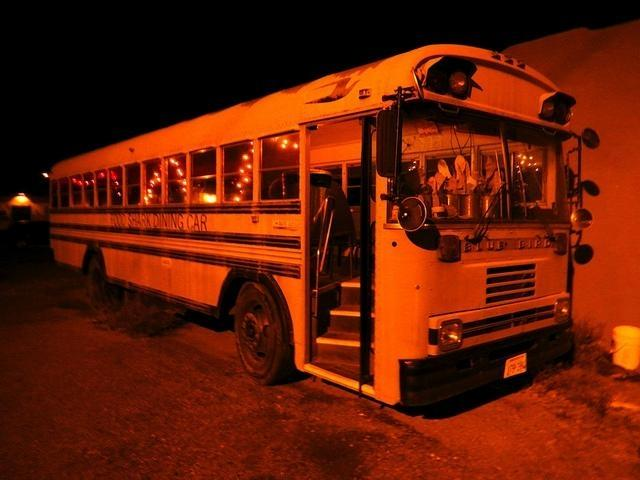bus: (37, 39, 603, 411)
